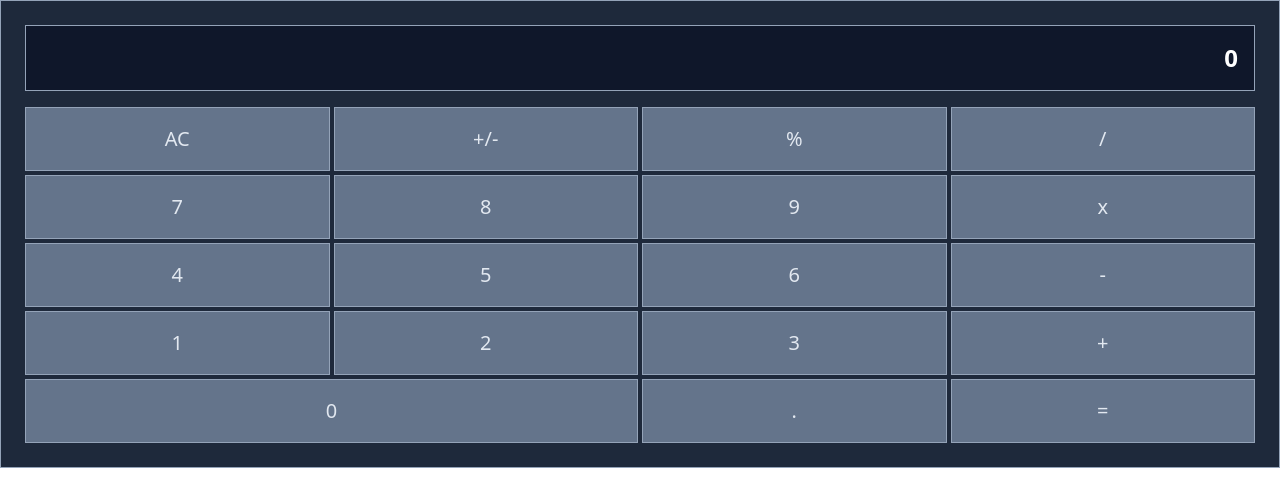
Scenario: App component › if operations changes the display status
Click the button "/" at (1103, 139), box [950,107,1255,171]
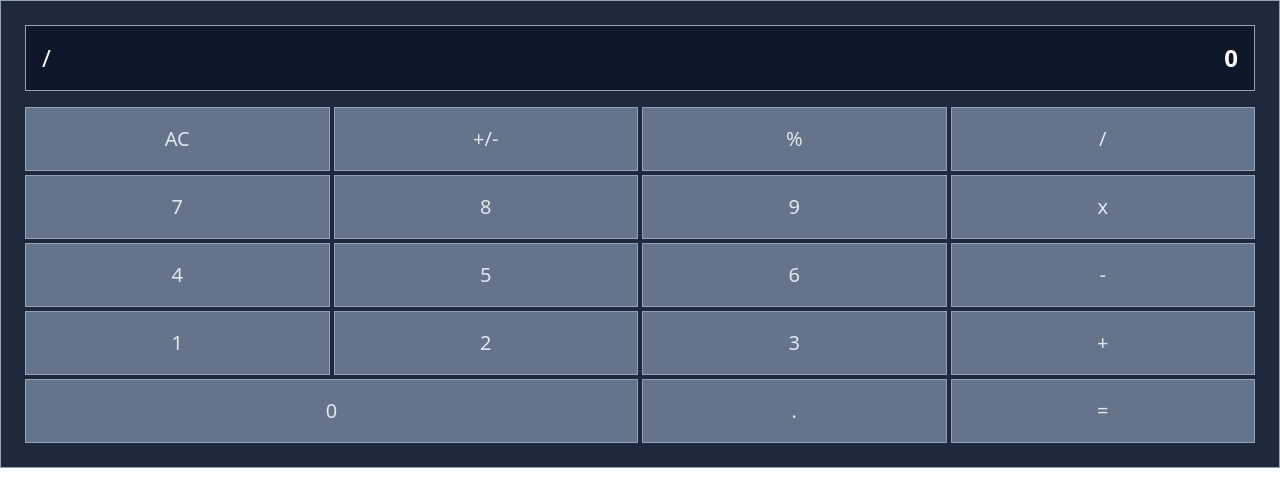
Check: the text with class "display__status" reads "/", box [42,41,51,74]
Click the button "x" at (1103, 207), box [950,175,1255,239]
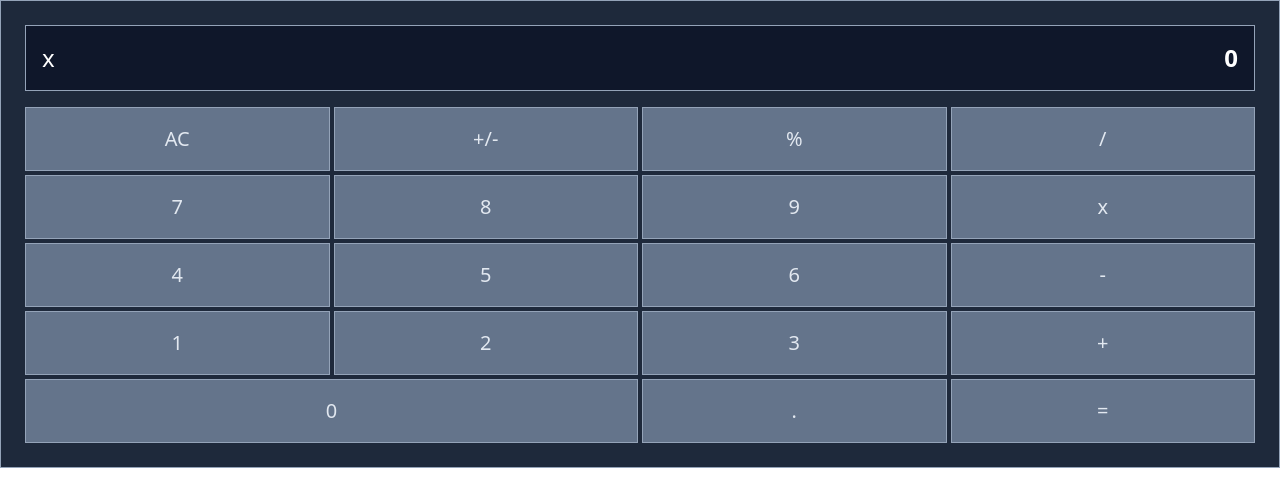
Check: the text with class "display__status" reads "x", box [42,41,55,74]
Click the button "-" at (1103, 275), box [950,243,1255,307]
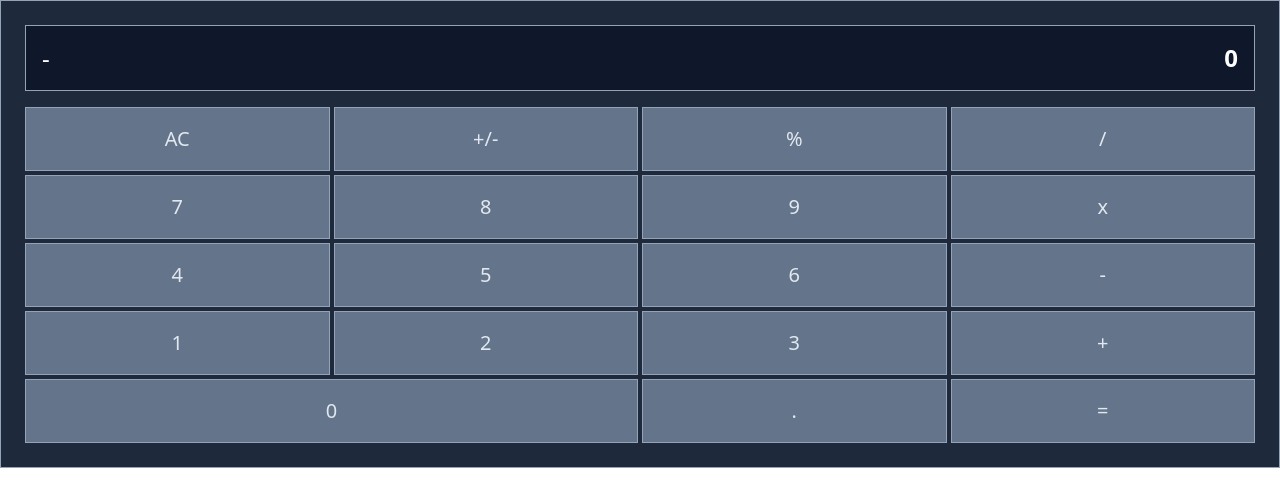
Check: the text with class "display__status" reads "-", box [42,41,50,74]
Click the button "+" at (1103, 343), box [950,311,1255,375]
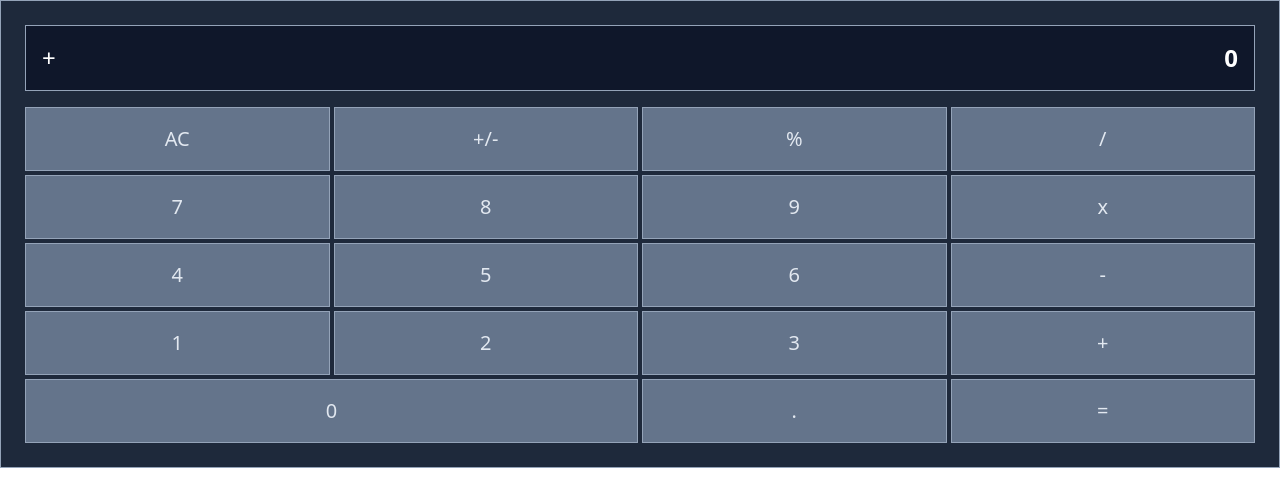
Check: the text with class "display__status" reads "+", box [42,41,56,74]
